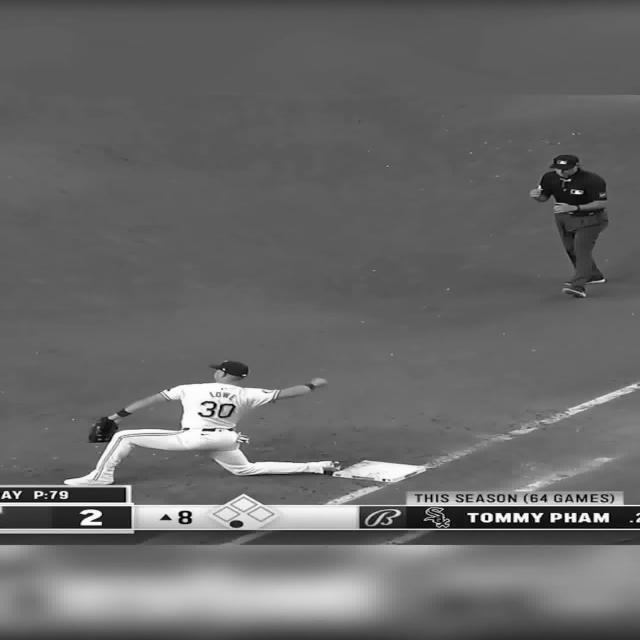base: (342, 462, 428, 479)
baseball_glove: (87, 416, 119, 443)
shoe: (63, 474, 113, 486), (318, 460, 342, 473), (563, 278, 605, 285), (562, 287, 586, 297), (584, 278, 606, 284)
